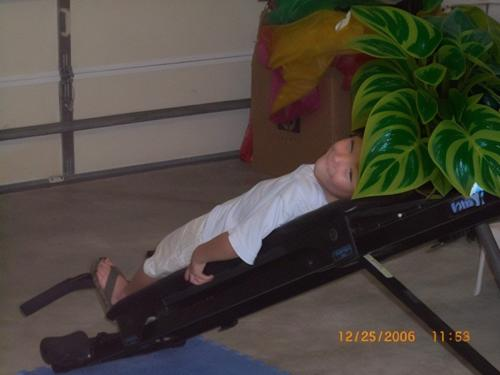person: (89, 132, 427, 325)
person/foot: (95, 258, 129, 306)
person/hand: (185, 258, 213, 286)
person/head: (313, 132, 425, 198)
pottedplant: (350, 4, 500, 200)
